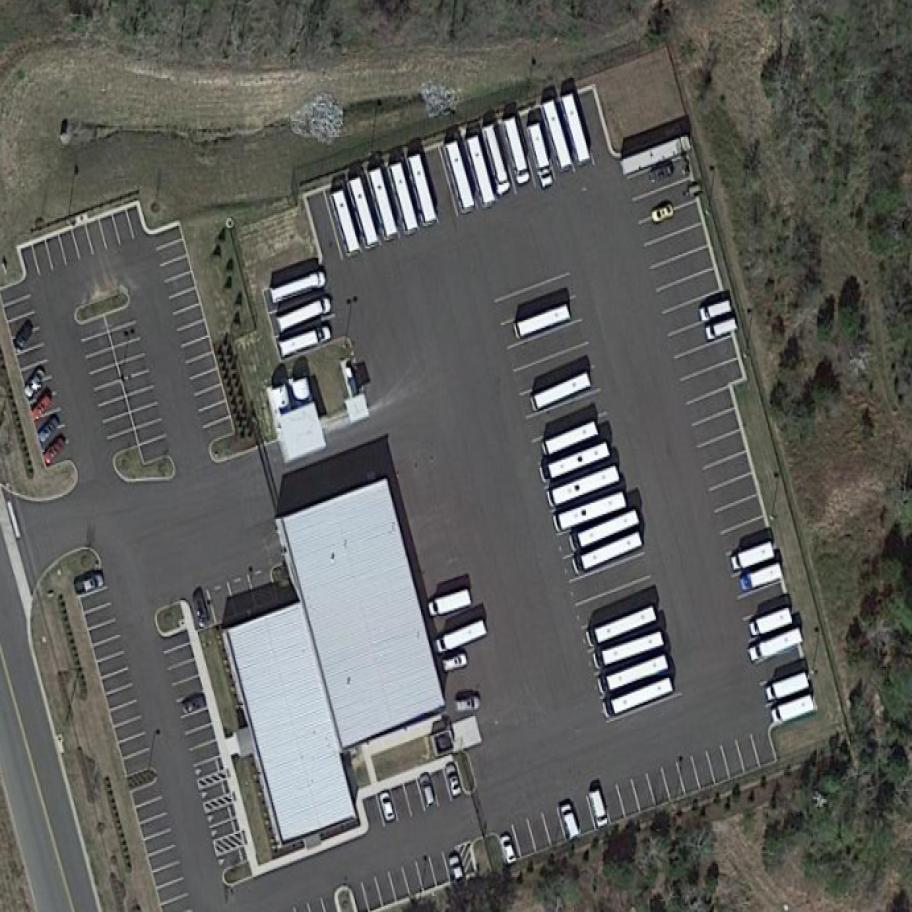large-vehicle: (544, 465, 623, 509), (569, 530, 645, 575), (537, 440, 612, 485), (551, 490, 629, 533), (566, 508, 642, 552), (600, 676, 676, 719), (584, 605, 659, 648), (619, 134, 694, 177), (596, 653, 671, 696), (591, 630, 667, 670), (345, 175, 381, 251), (528, 371, 594, 412), (538, 99, 575, 172), (386, 162, 422, 237), (461, 135, 497, 209), (442, 140, 477, 216), (405, 153, 440, 229), (479, 124, 514, 197), (365, 167, 399, 240), (559, 92, 592, 164), (328, 189, 363, 256), (274, 296, 335, 334), (539, 420, 601, 457), (746, 626, 806, 664), (268, 269, 329, 306), (432, 618, 490, 656), (511, 304, 573, 339), (501, 116, 532, 186), (526, 123, 556, 189), (277, 325, 334, 358), (762, 670, 813, 703), (727, 540, 777, 573), (769, 694, 818, 726), (746, 606, 795, 638), (425, 589, 474, 619), (738, 562, 785, 592), (588, 789, 611, 831), (698, 297, 735, 323), (704, 317, 740, 342), (560, 804, 581, 840)
small-vehicle: (38, 431, 72, 470), (9, 317, 43, 355), (19, 364, 51, 403), (25, 390, 58, 427), (32, 411, 64, 449), (493, 831, 521, 867), (437, 649, 474, 676), (190, 584, 212, 629), (443, 764, 467, 801), (416, 772, 440, 809), (74, 571, 108, 597), (646, 162, 678, 188), (177, 692, 209, 718), (647, 201, 680, 226), (376, 789, 399, 824), (445, 852, 468, 883), (456, 694, 482, 713)
